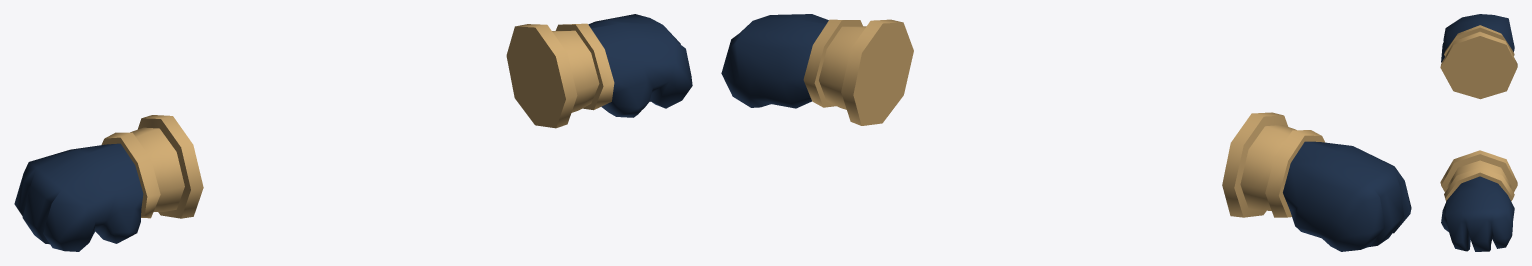
File: Glove_18.fbx
The picture shows the model from 3 angles, left to right: view 1: azimuth 30°, elevation 25°; view 2: azimuth 150°, elevation 25°; view 3: azimuth 270°, elevation 25°; orthographic projection. The views are drawn at different scales.
Parts seen in each view (by area): view 1: Glove_18; view 2: Glove_18; view 3: Glove_18.
Part boxes in pixels (left/top/right/bottom): Glove_18: left=14, top=14, right=692, bottom=251; Glove_18: left=721, top=14, right=1411, bottom=251; Glove_18: left=1440, top=14, right=1517, bottom=251.
Size of the model in its own units: 135 by 19.75 by 21.36.
